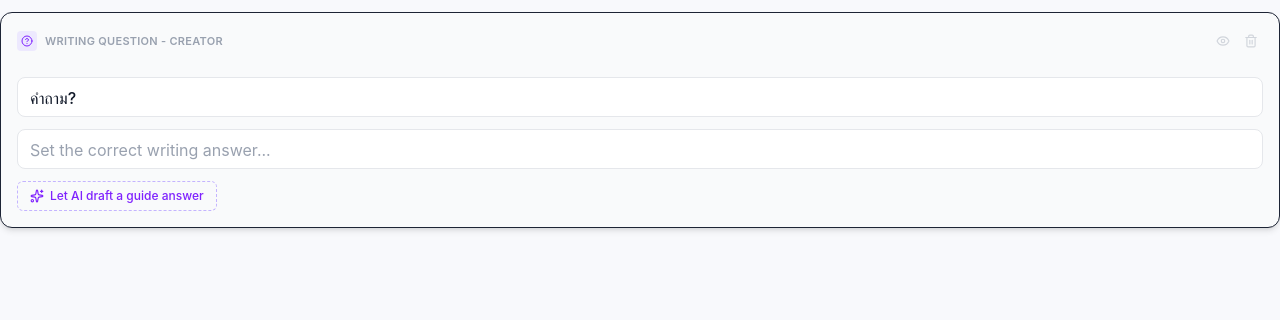
Scenario: QuestionWrite AI guide-answer fill › discarding the draft leaves attrs untouched
This screenshot has width=1280, height=320.
What coordinates should you click on to do the following:
click the button "Let AI draft a guide answer"
I would click on:
 (117, 196)
Its box is [17,181,217,211].
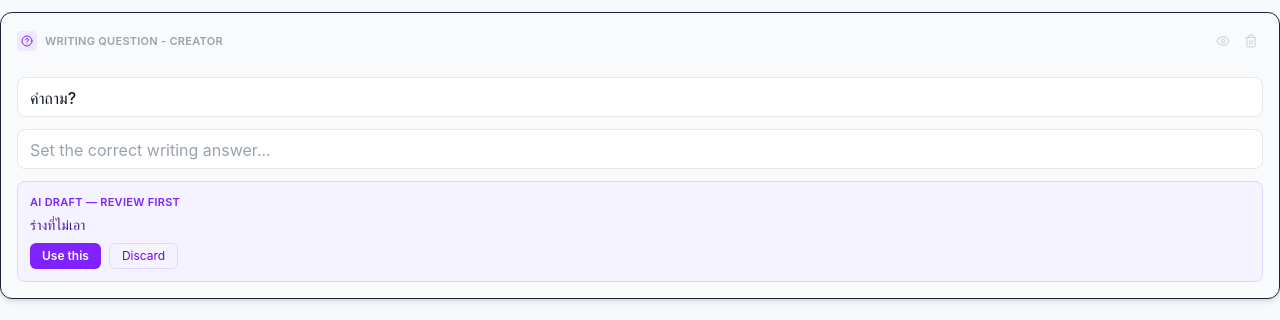
What coordinates should you click on to do the following:
click the button "Discard"
I would click on:
 (144, 256)
Its box is [109,242,178,268].
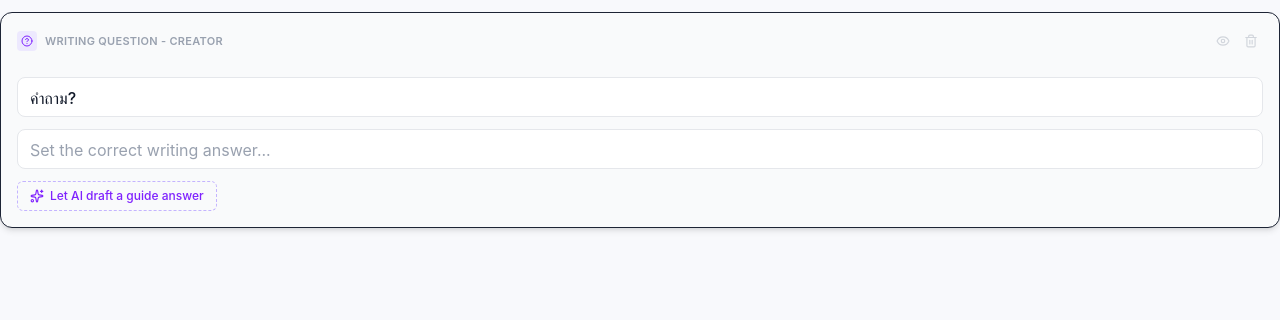
Result: the text "ร่างที่ไม่เอา" is gone
